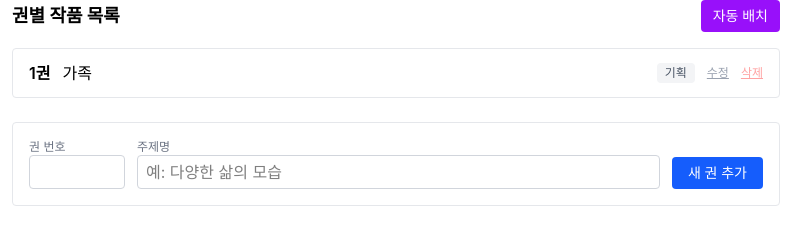
Test case: 권을 인라인으로 수정한다
Expected: the text "가족" is shown, [62,63,92,83]
Click the button "수정" at (718, 73), box [707,65,729,81]
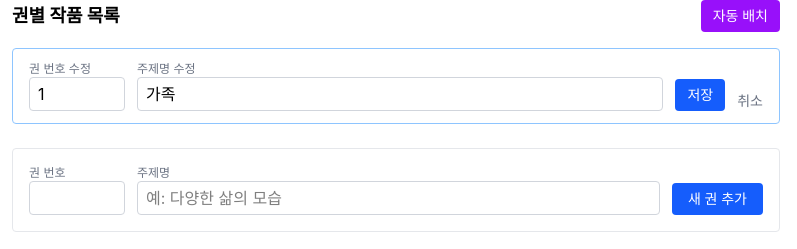
Replace the text in the field labelled "주제명 수정" with "다양한 삶의 모습" at (400, 94), box [137,77,664,111]
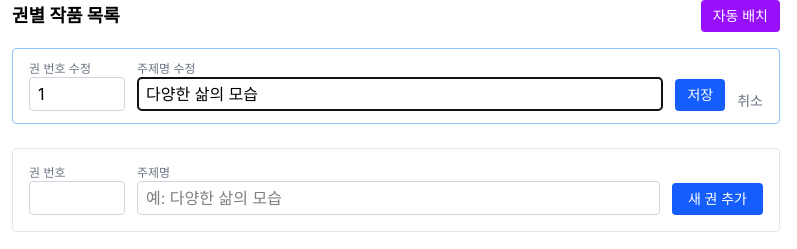
Click the button "저장" at (700, 95), box [676,79,725,111]
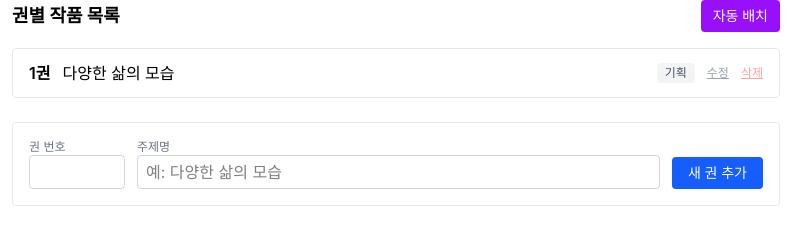
Result: the text "다양한 삶의 모습" is shown at [62,63,174,83]
